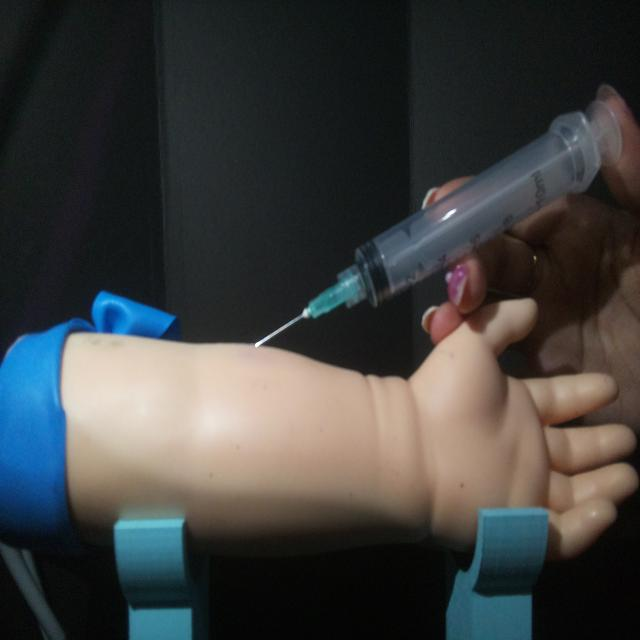29deg: (249, 89, 625, 352)
